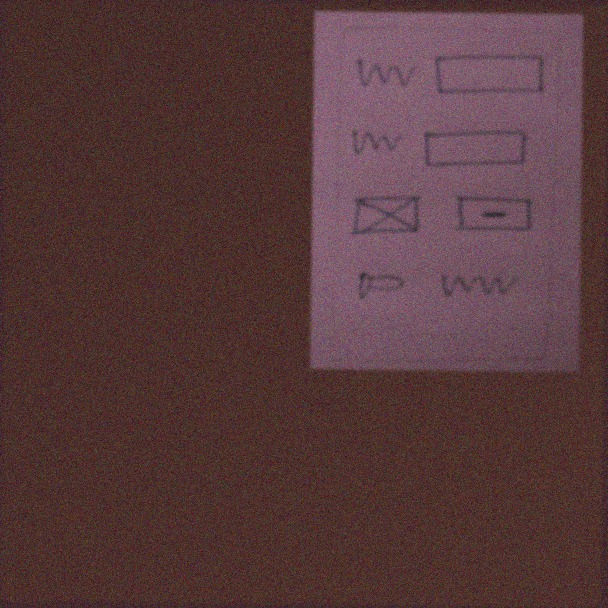button: (448, 193, 535, 240)
image: (347, 195, 427, 236)
switch: (351, 269, 407, 303)
text: (435, 270, 520, 301), (354, 58, 421, 91), (349, 126, 405, 157)
text_input: (431, 53, 545, 100), (420, 128, 528, 172)
